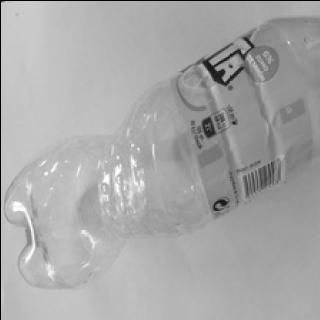plastic_bottles: (6, 17, 320, 290)
